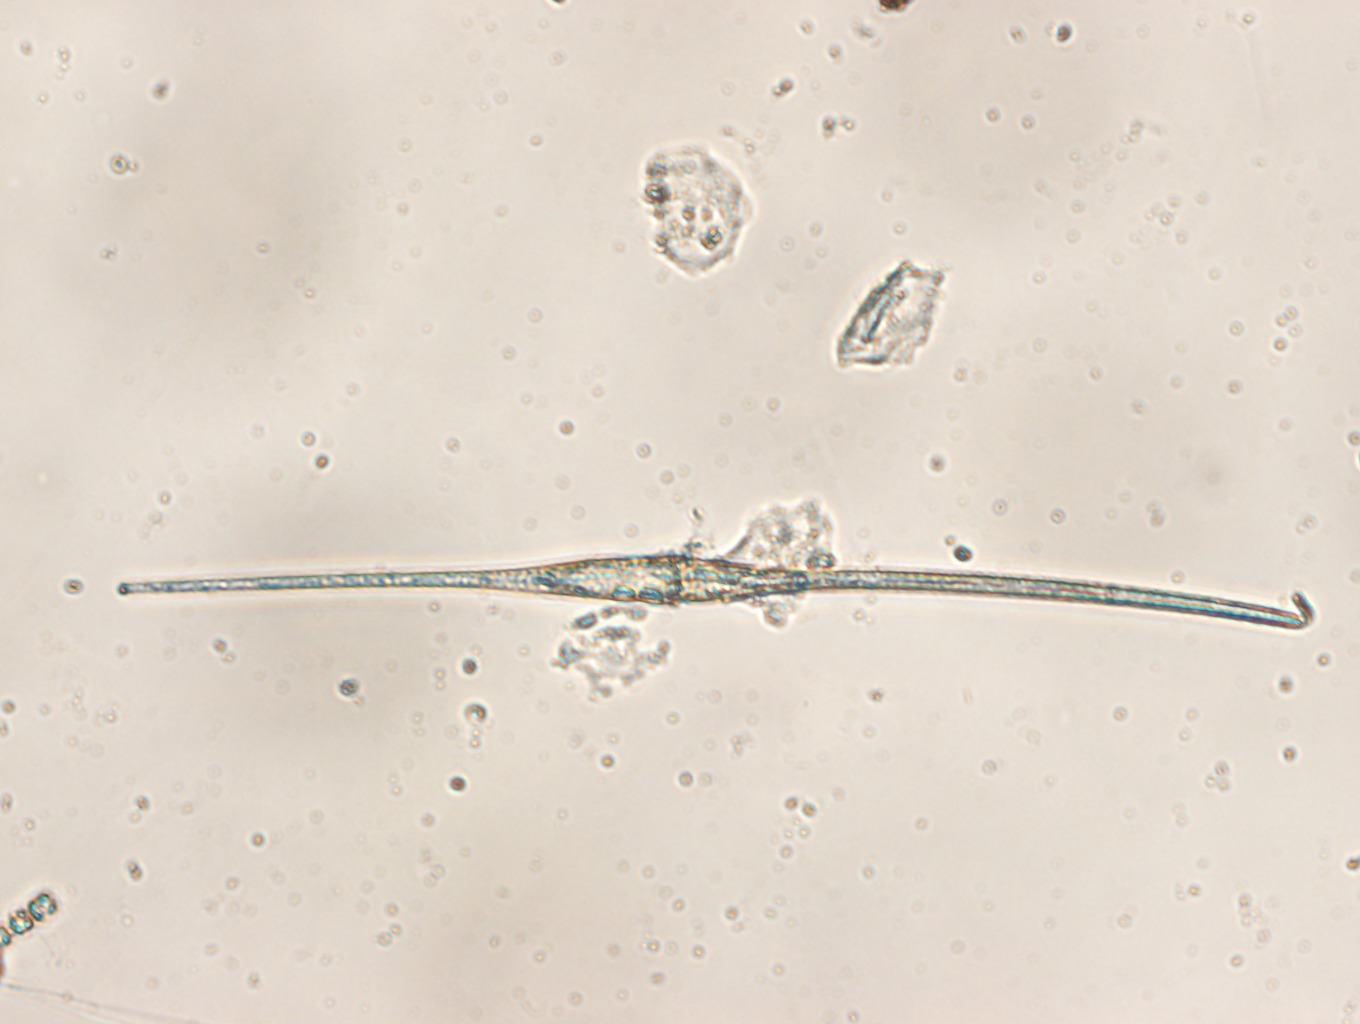ceratium fusus: (116, 555, 1305, 632)
skeletonema: (1, 891, 60, 945)
